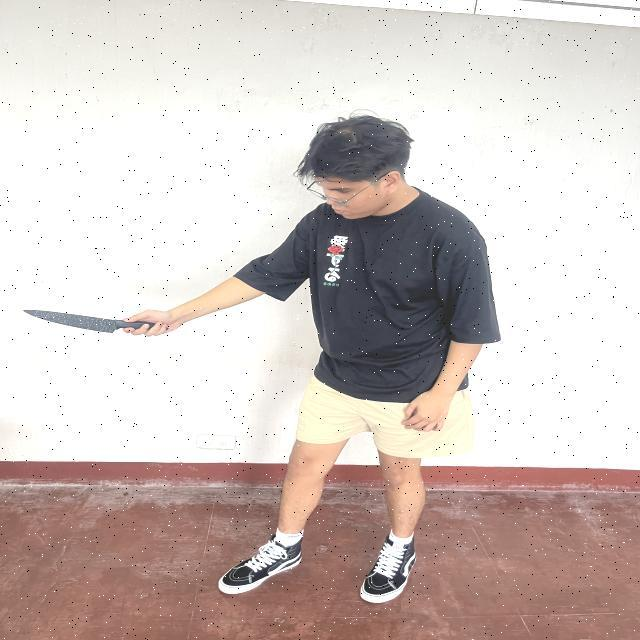knife: (24, 308, 163, 334)
non-violence: (22, 116, 500, 604)
